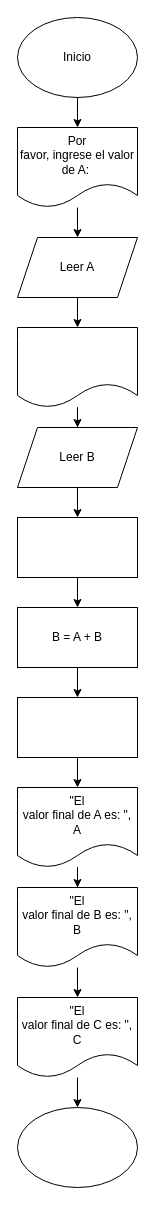
This 155x1205 diagram has some shape labels left out. Here are the shapes that lost their labels. From the top down, the centre of each, then its label:
At point (77, 367): "Por favor, ingrese el valor de B:".
At point (77, 547): "C = A + B".
At point (77, 727): "A = B - C".
At point (77, 1147): "Fin".
